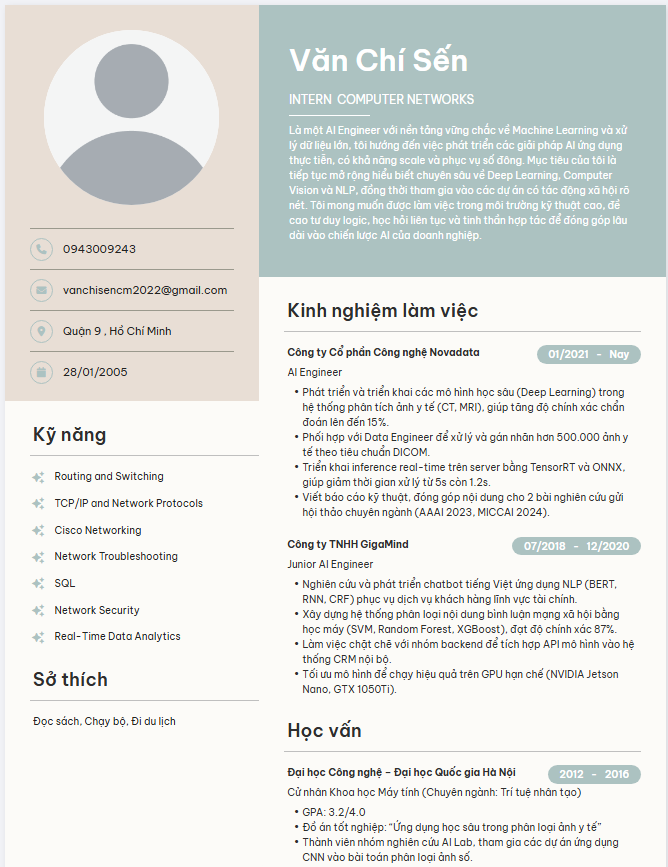address: (27, 315, 179, 343)
gpa: (290, 804, 370, 820)
level: (285, 88, 333, 107)
position: (336, 88, 476, 108)
skill: (21, 413, 264, 652)
